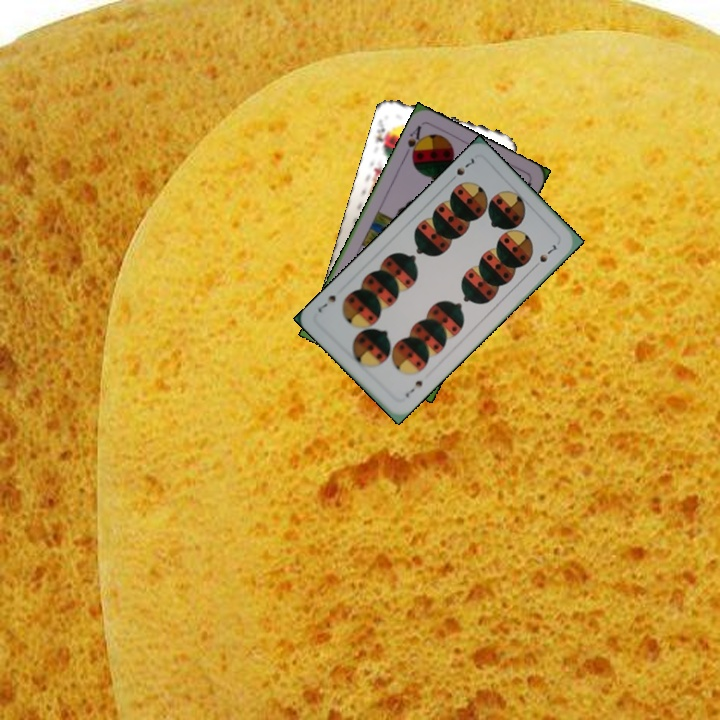S7: (445, 154, 477, 185), (401, 376, 425, 400)
SA: (401, 121, 426, 162)
SK: (371, 118, 392, 154)
